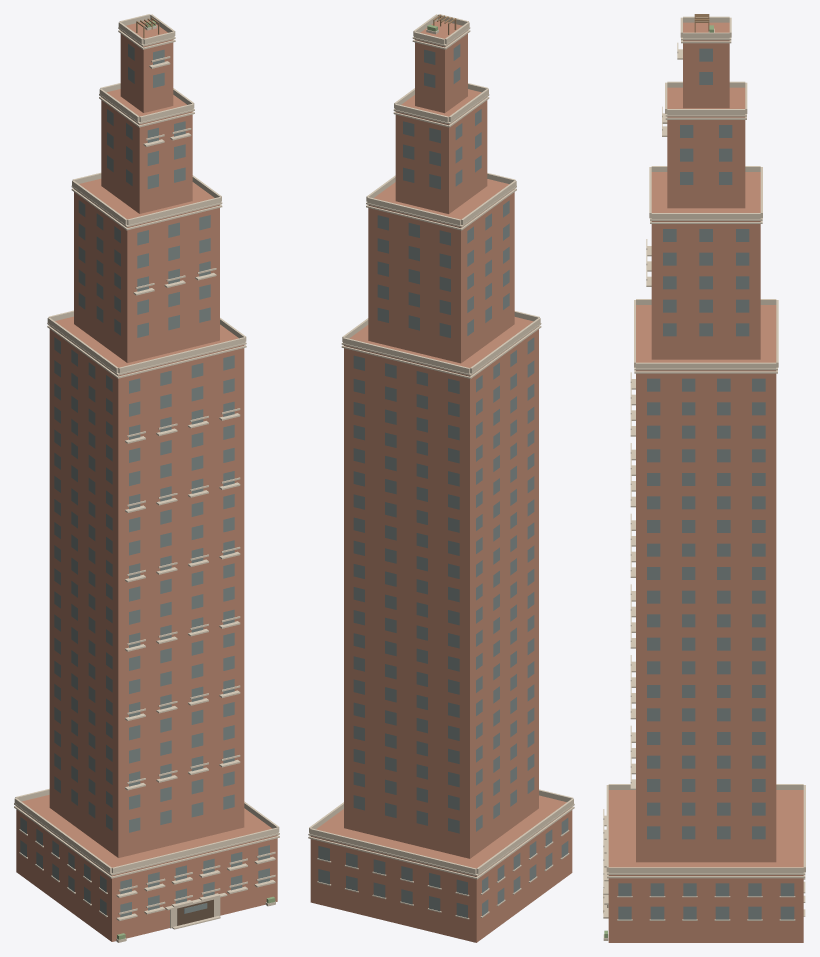
Rendered from residential_3x3_tower_crown.glb.
The picture shows the model from 3 angles, left to right: view 1: azimuth 30°, elevation 25°; view 2: azimuth 150°, elevation 25°; view 3: azimuth 270°, elevation 25°; orthographic projection.
Parts seen in each view (by area): view 1: residential_3x3_tower_crown_0; view 2: residential_3x3_tower_crown_0; view 3: residential_3x3_tower_crown_0.
Boxes of the visible parts, bbox=[...] form: residential_3x3_tower_crown_0: bbox=[14, 14, 279, 942]; residential_3x3_tower_crown_0: bbox=[308, 14, 574, 942]; residential_3x3_tower_crown_0: bbox=[603, 14, 805, 942].
Size of the model in its own units: 23 by 112 by 23.4.
